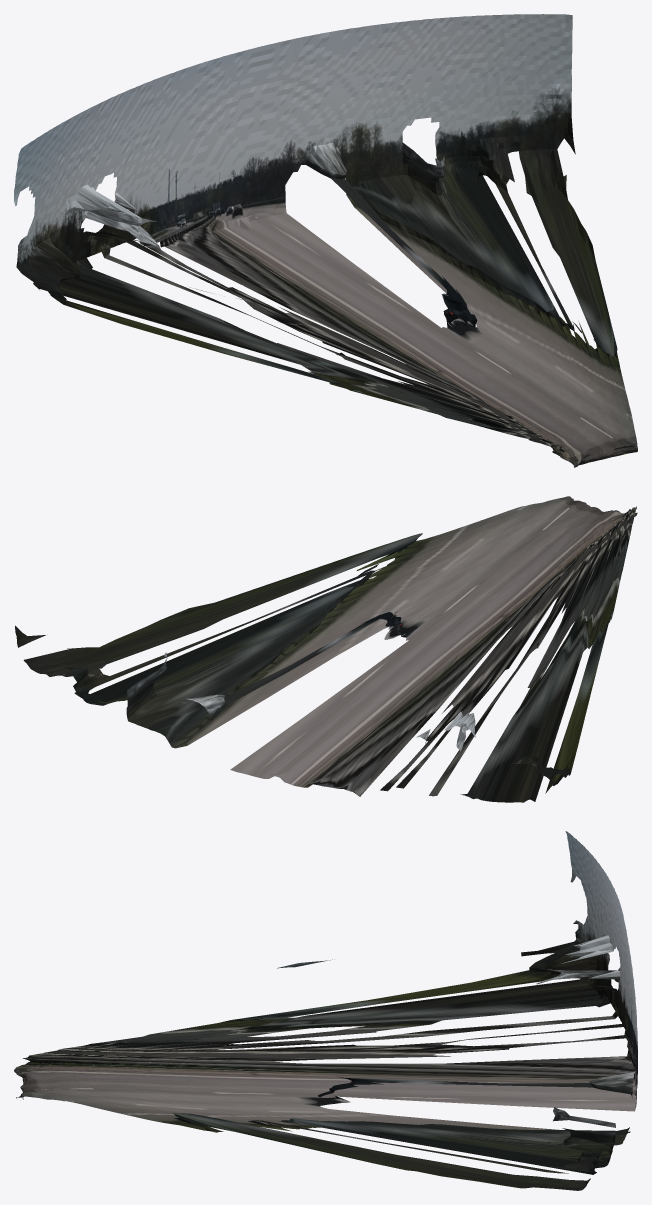
The picture shows the model from 3 angles, top to bottom: view 1: azimuth 30°, elevation 25°; view 2: azimuth 150°, elevation 25°; view 3: azimuth 270°, elevation 25°; orthographic projection. The views are drawn at different scales.
Visible parts, largest first — view 1: defaultobject; view 2: defaultobject; view 3: defaultobject.
Part boxes in pixels (x1,y1,x2,y2): defaultobject: [14, 14, 637, 467]; defaultobject: [15, 496, 637, 802]; defaultobject: [14, 831, 637, 1190].
Bounding box in the file's own units: 41 × 12.47 × 44.52.
Materials: 1 (1 with a texture image).
